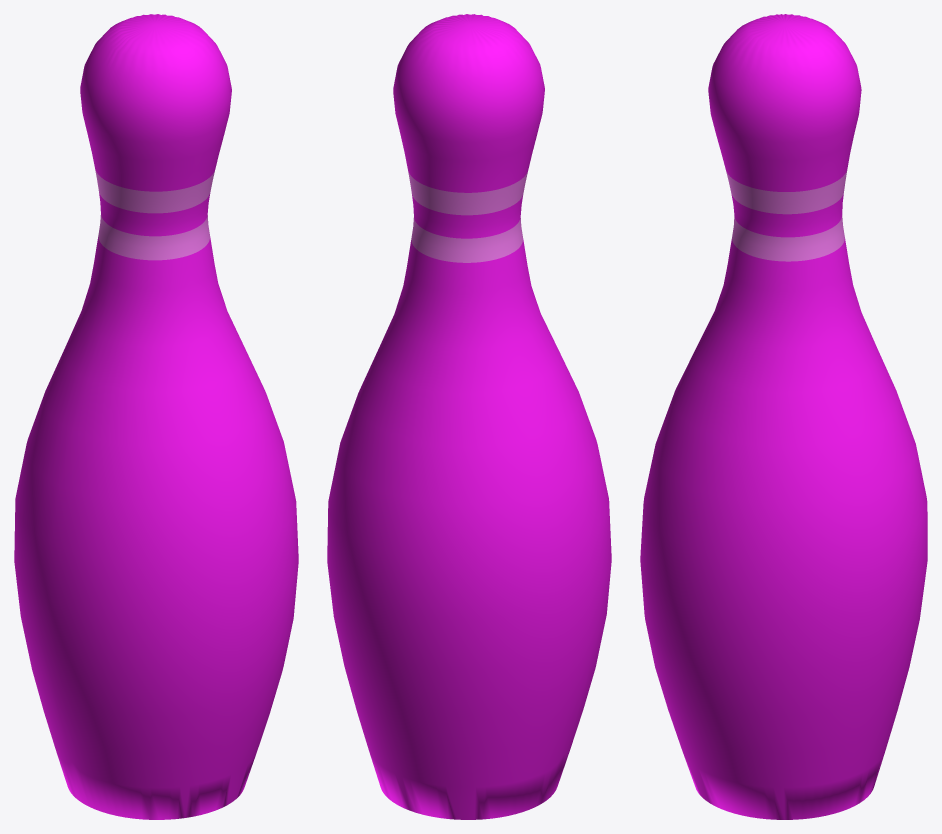
File: Pink Bowling pin.fbx
3 renders of one model, left to right at view 1: azimuth 30°, elevation 25°; view 2: azimuth 150°, elevation 25°; view 3: azimuth 270°, elevation 25°, orthographic.
Visible parts, largest first — view 1: Pink Pin; view 2: Pink Pin; view 3: Pink Pin.
Part boxes in pixels (box(x1,y1,x2,y2)): Pink Pin: box(14, 14, 298, 819); Pink Pin: box(327, 14, 611, 819); Pink Pin: box(640, 14, 927, 819).
Bounding box in the file's own units: 131 × 387 × 133.
Materials: 1 (1 with a texture image).
